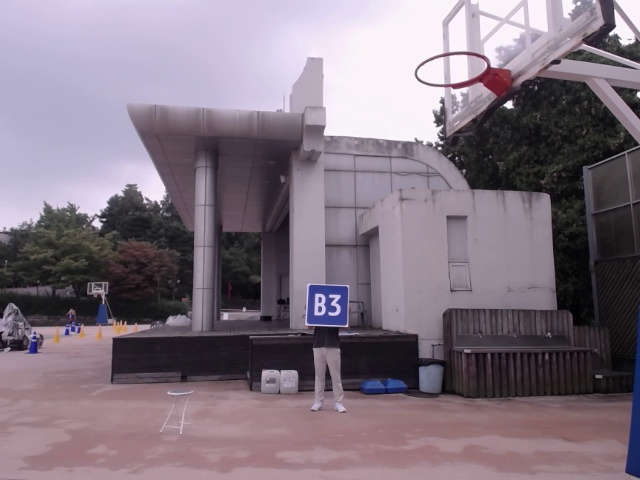delivery_b3: (305, 282, 350, 328)
